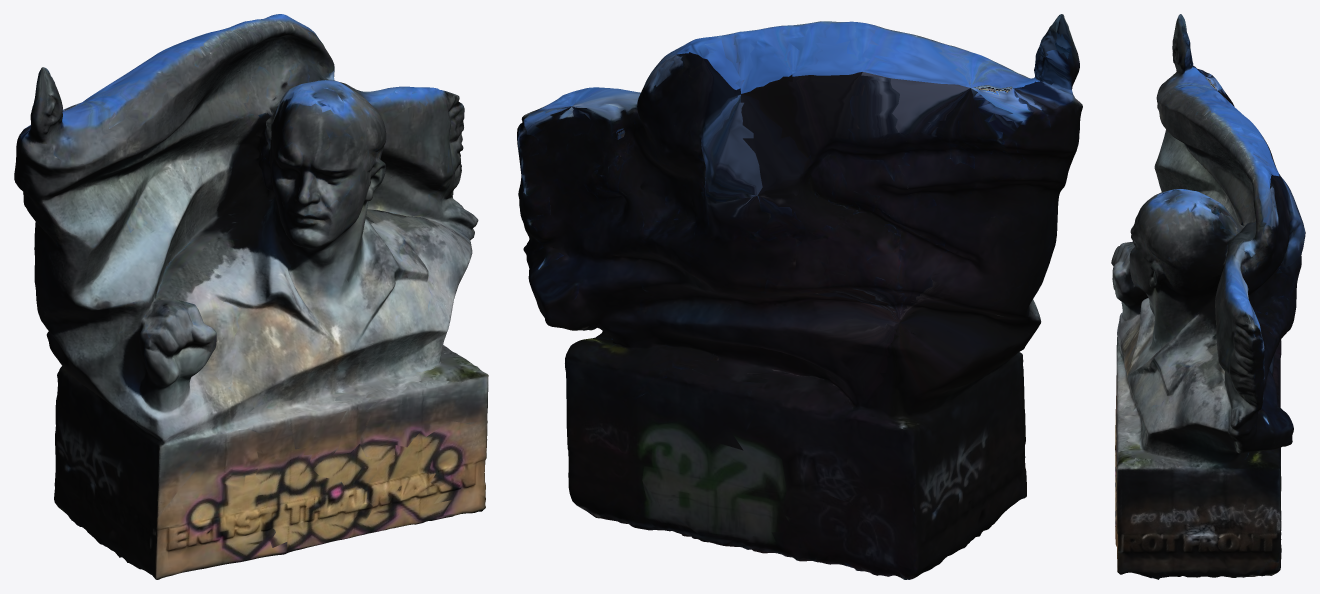
The picture shows the model from 3 angles, left to right: view 1: azimuth 30°, elevation 25°; view 2: azimuth 150°, elevation 25°; view 3: azimuth 270°, elevation 25°; orthographic projection. The views are drawn at different scales.
Visible parts, largest first — view 1: 512.25k; view 2: 512.25k; view 3: 512.25k.
Part boxes in pixels (x1,y1,x2,y2): 512.25k: [14, 14, 488, 579]; 512.25k: [517, 14, 1082, 579]; 512.25k: [1111, 14, 1305, 579].
Bounding box in the file's own units: 1.65 × 1.68 × 0.7169.
4 materials, 4 textured.
